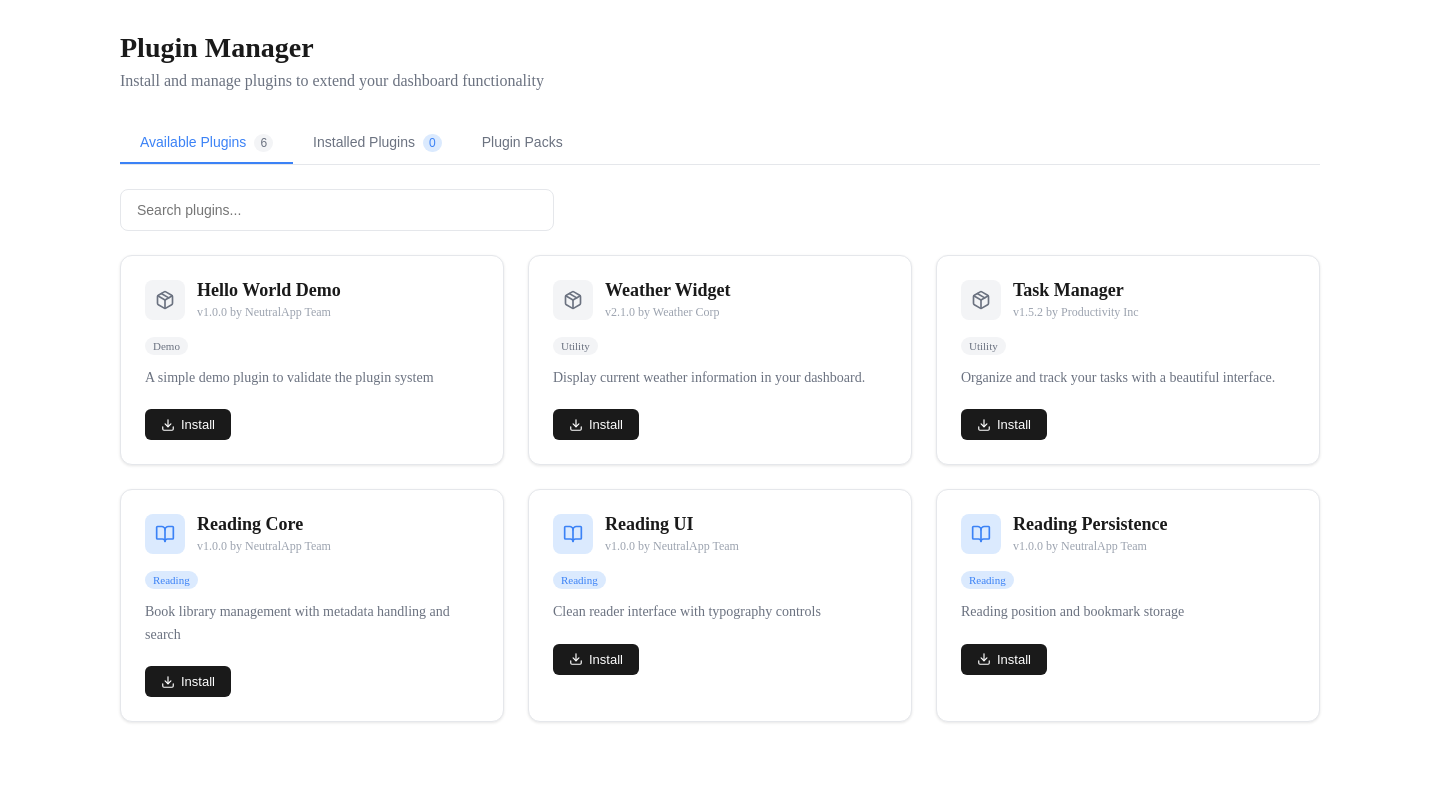
Test: Plugin Manager Acceptance Tests › Feature 1: Plugin Manager UI/UX › Acceptance Criteria 1.2: Toast Notifications › should allow click-to-dismiss toast notifications
The image size is (1440, 810).
Expected: the heading "Hello World Demo" is shown, [197,280,341,301]
Click the button "Install" below "Hello World Demo": point(188, 425) [145,409,231,440]
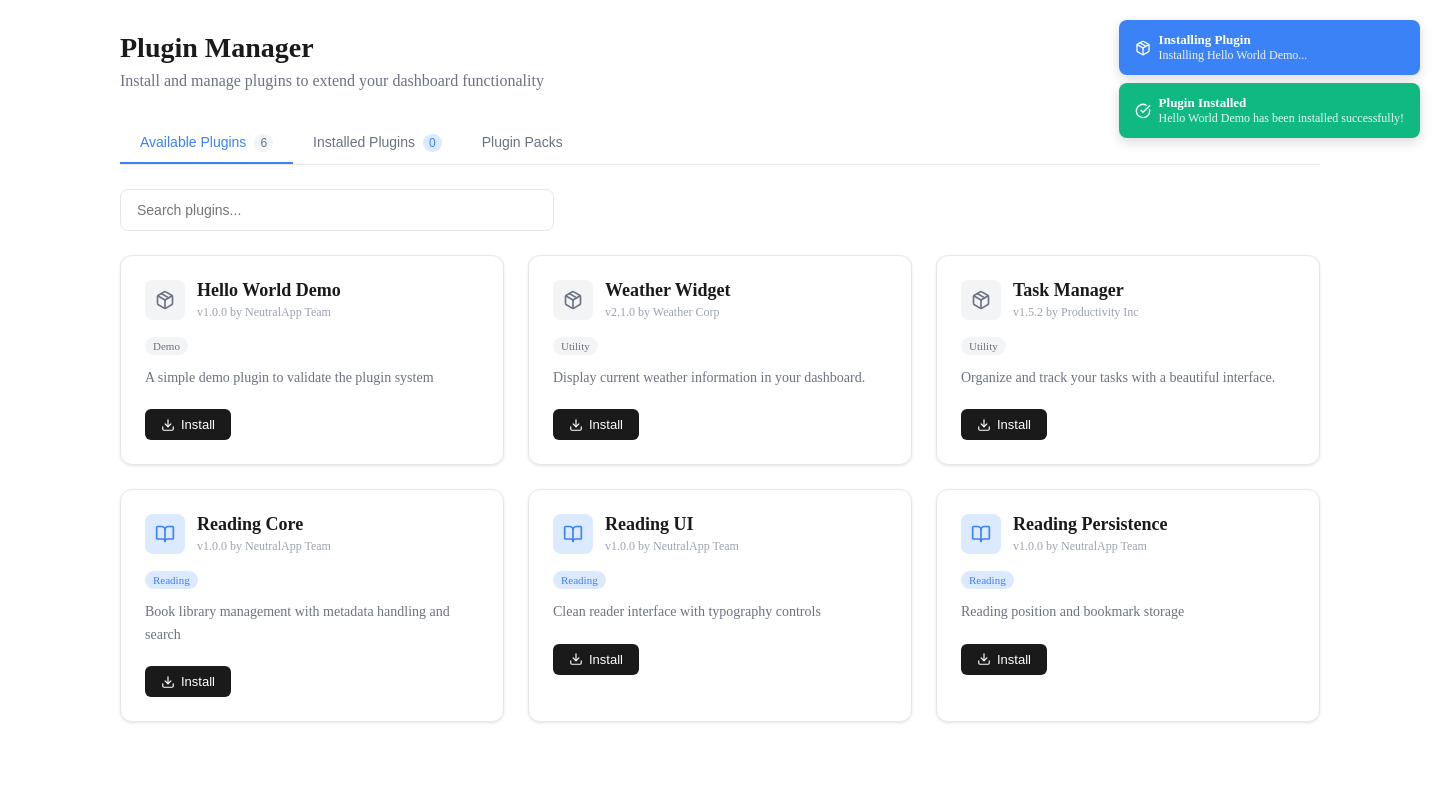
Now the text "Installing Plugin" is shown
Note: Click on toast to dismiss
Click the text "Installing Plugin": point(1205, 40) [1159,32,1251,47]
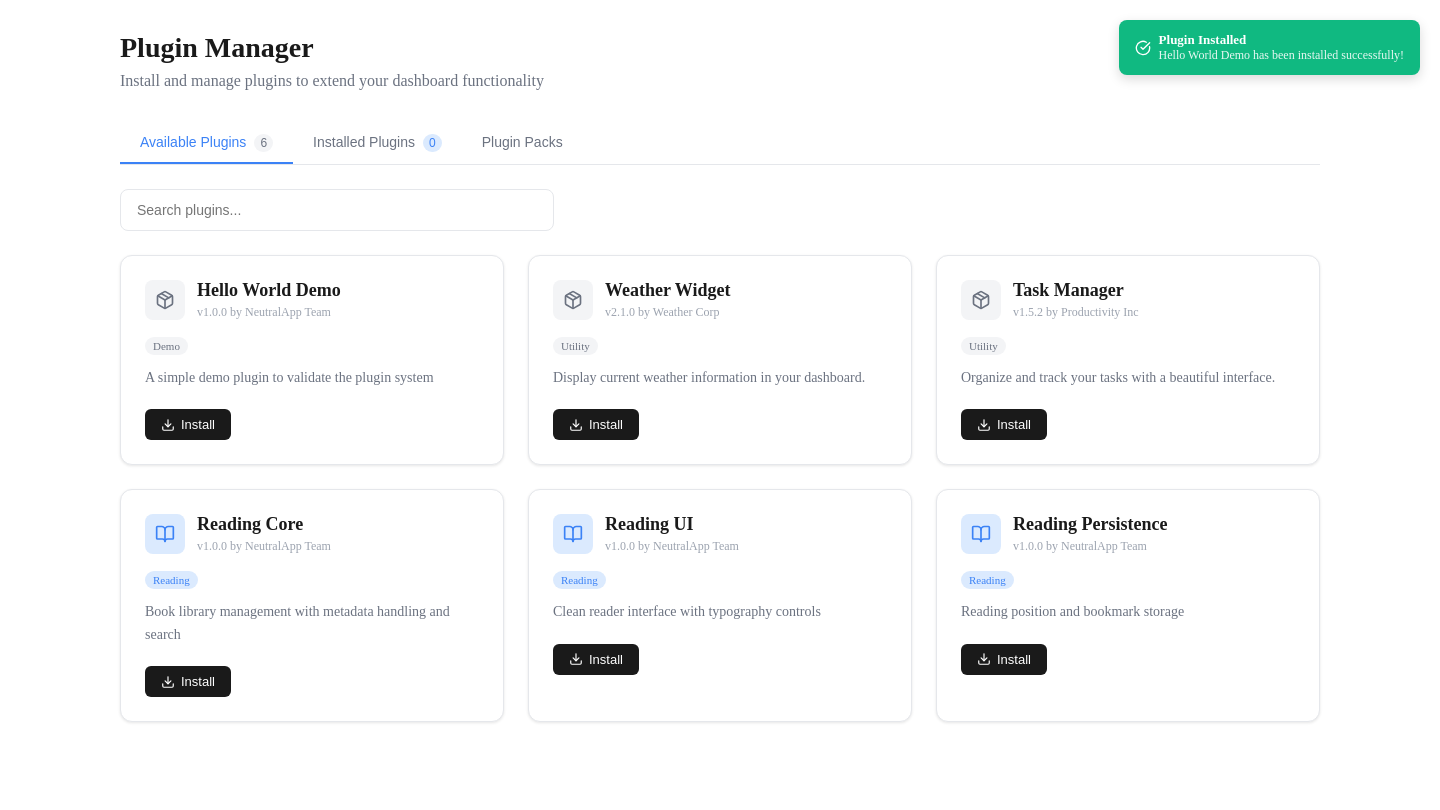
Now the text "Installing Plugin" is gone
